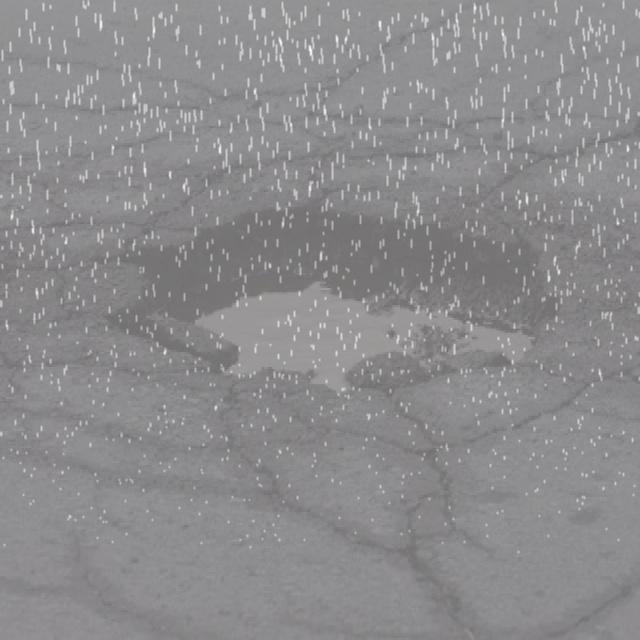Pothole: (101, 199, 604, 450)
